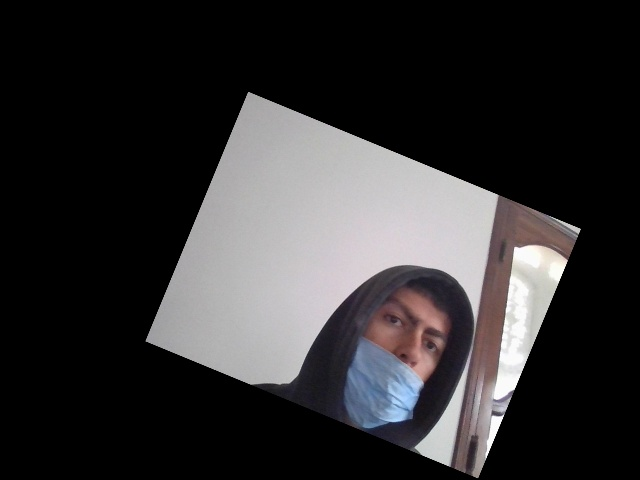mask_weared_incorrect: (349, 285, 450, 432)
